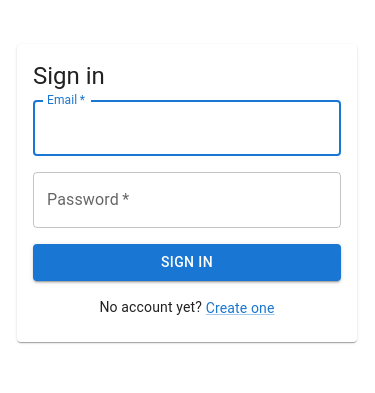
it: LoginPage › shows error on 401 response
The width and height of the screenshot is (375, 393).
In the field labelled "Email *": (187, 128) 33,100 -> 341,156, type "bad@example.com"
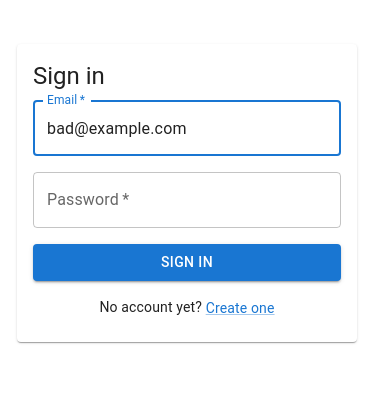
In the password field labelled "Password *": (187, 200) 33,172 -> 341,228, type "wrongpass"
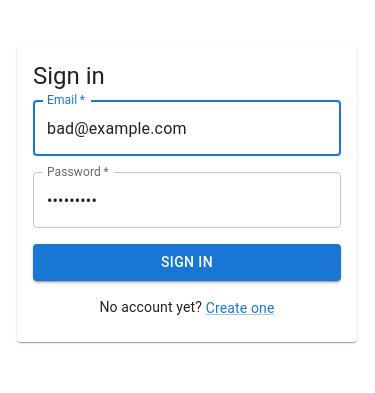
Click the button "Sign in": click(187, 263) 33,244 -> 341,281
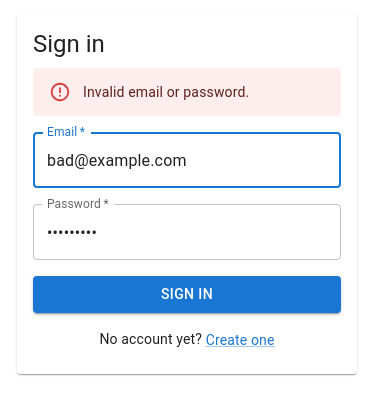
Expected: the text "Invalid email or password." is shown, 83,84 -> 249,100
